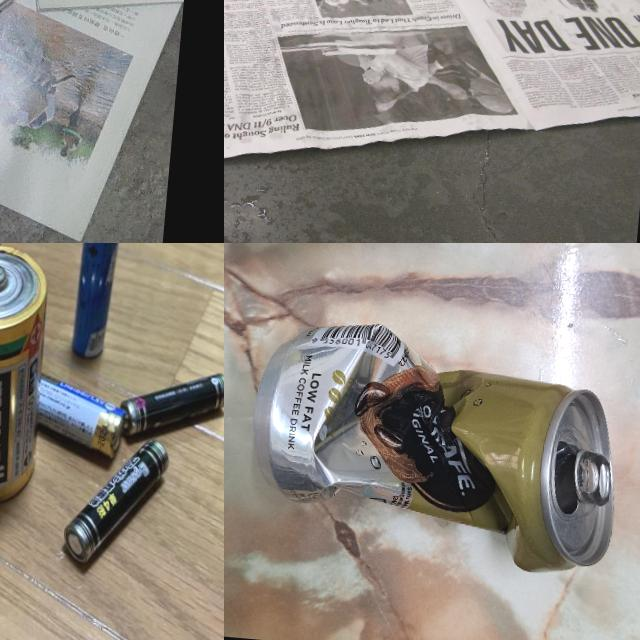bateria: (57, 428, 174, 576), (0, 243, 59, 515), (21, 364, 131, 460), (115, 365, 224, 446), (69, 243, 129, 363)
lata: (239, 312, 629, 582)
papel: (224, 0, 640, 202), (0, 0, 210, 243)
